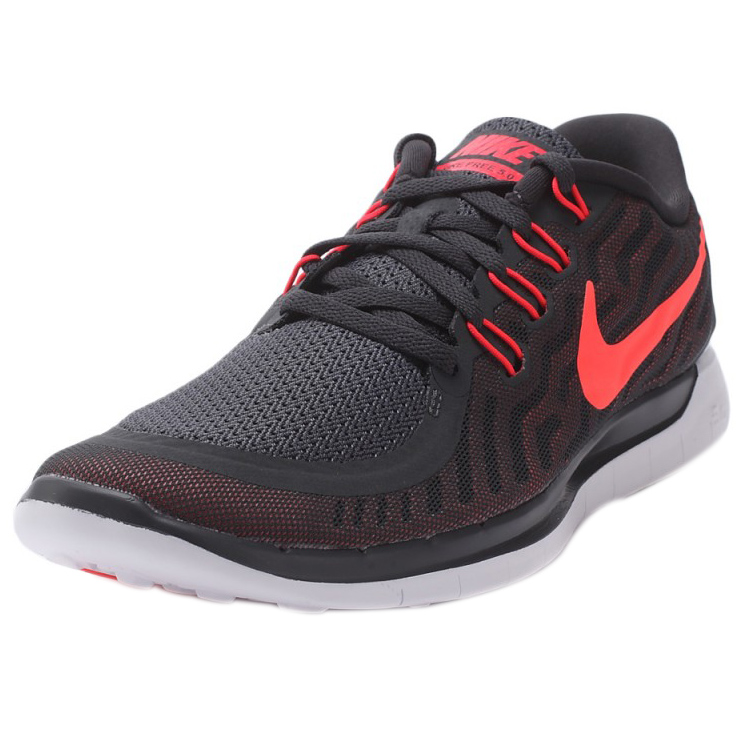Nike: (572, 211, 710, 414)
